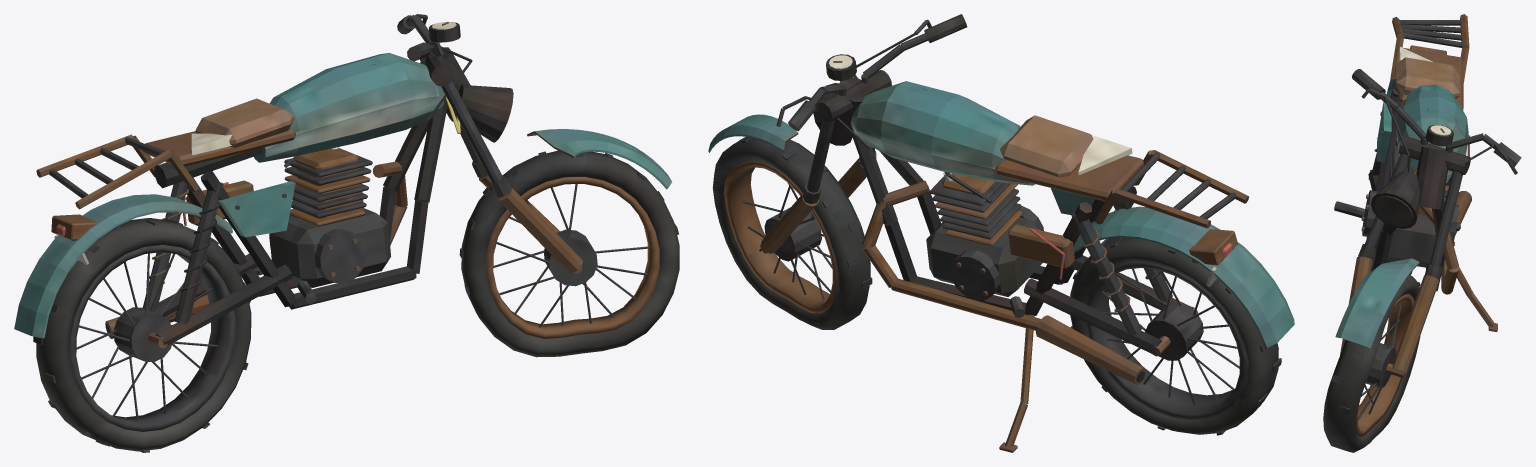
Rendered from JV11_wrecked_motorcycle_v2.glb.
The picture shows the model from 3 angles, left to right: view 1: azimuth 30°, elevation 25°; view 2: azimuth 150°, elevation 25°; view 3: azimuth 270°, elevation 25°; orthographic projection. The views are drawn at different scales.
Parts seen in each view (by area): view 1: Tyre; view 2: Tyre; view 3: Tyre.
Part boxes in pixels (x1,y1,x2,y2): Tyre: [14, 14, 679, 452]; Tyre: [708, 14, 1294, 452]; Tyre: [1323, 14, 1521, 452].
Bounding box in the file's own units: 2 × 1.11 × 0.6371.
12 materials, 12 textured.
